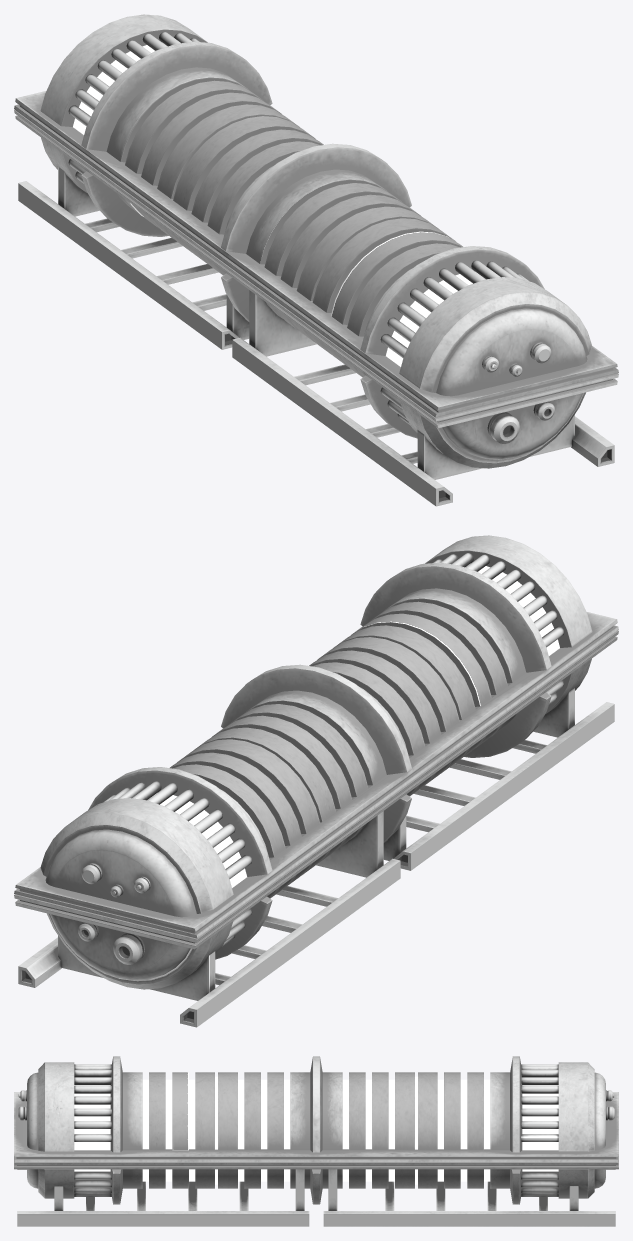
File: SM_CylinderLong2.fbx
3 views of the same model, one above another, from view 1: azimuth 30°, elevation 25°; view 2: azimuth 150°, elevation 25°; view 3: azimuth 270°, elevation 25° (orthographic). The views are drawn at different scales.
Parts seen in each view (by area): view 1: SM_CylinderLong2_LOD0; view 2: SM_CylinderLong2_LOD0; view 3: SM_CylinderLong2_LOD0.
Part boxes in pixels (x1=…): SM_CylinderLong2_LOD0: x1=14, y1=14, x2=618, y2=506; SM_CylinderLong2_LOD0: x1=14, y1=535, x2=618, y2=1027; SM_CylinderLong2_LOD0: x1=14, y1=1056, x2=618, y2=1226.
Size of the model in its own units: 46.09 by 181 by 44.09.
Materials: 1 (1 with a texture image).
